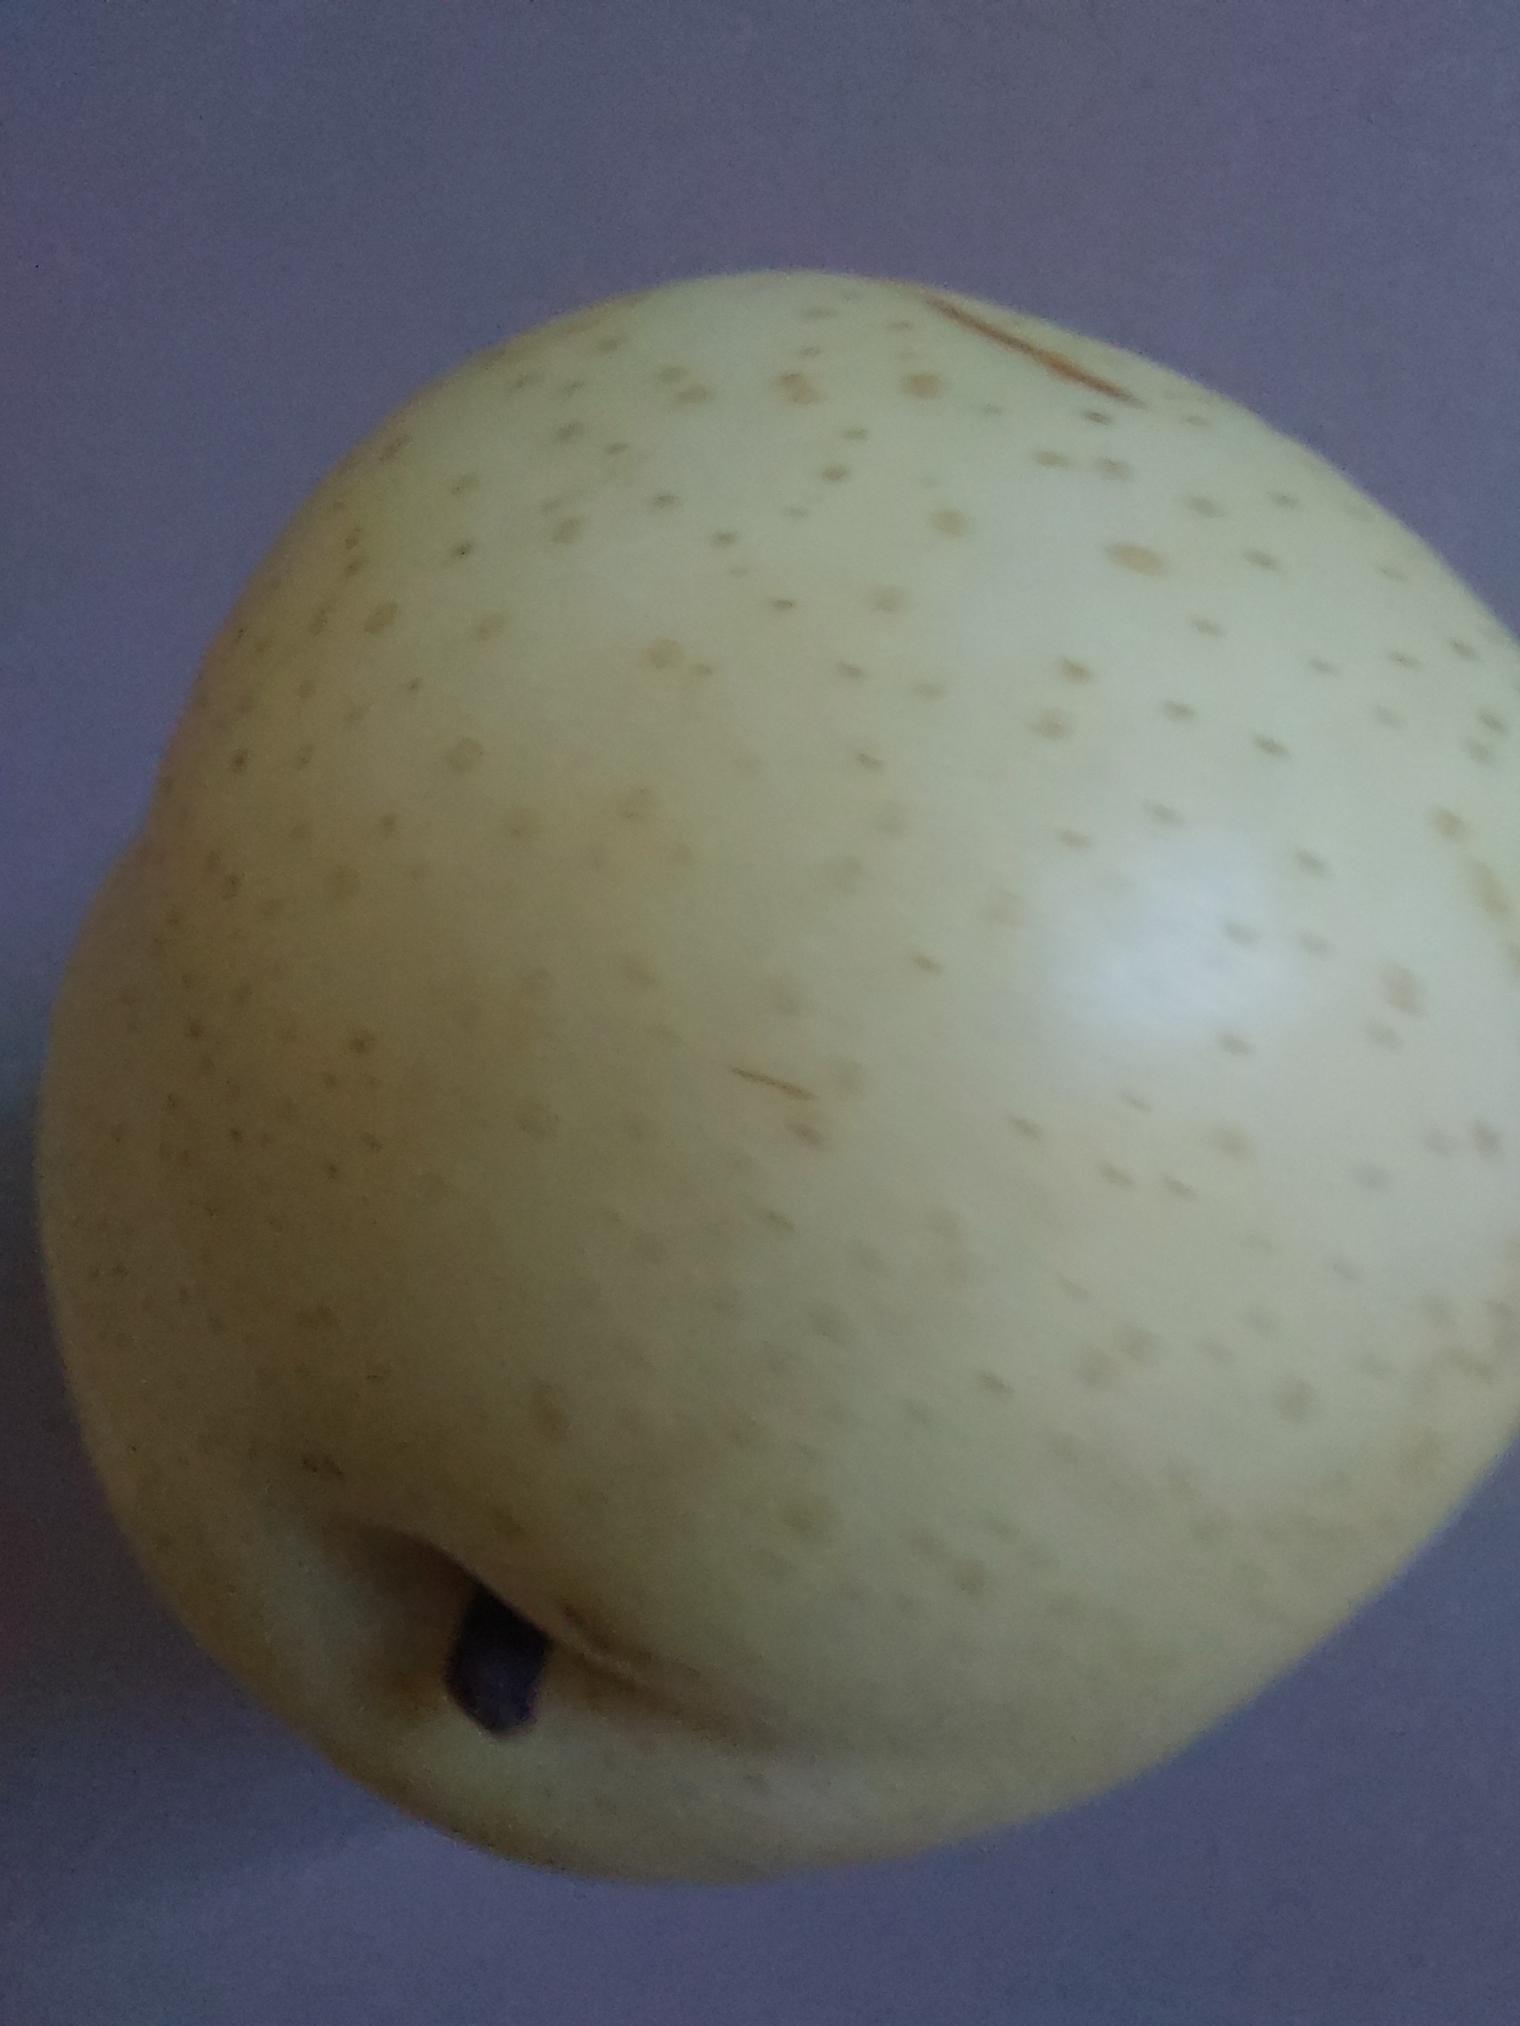Good Pear: (18, 239, 1520, 1900)
